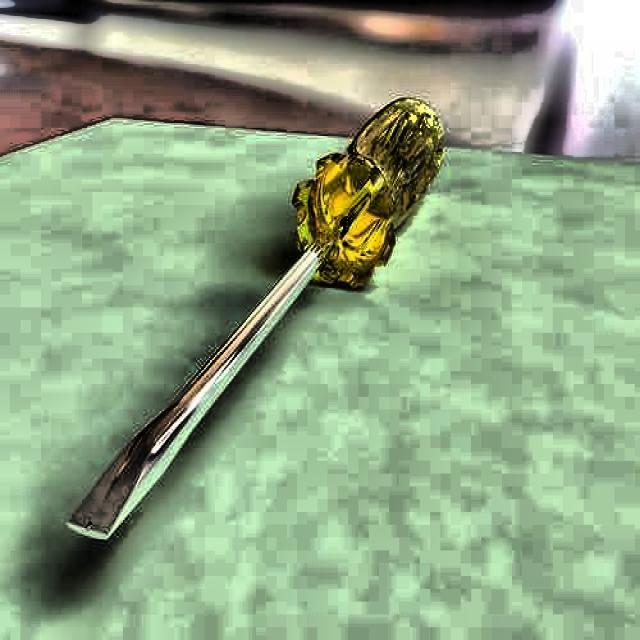screwdriver: (68, 94, 446, 544)
